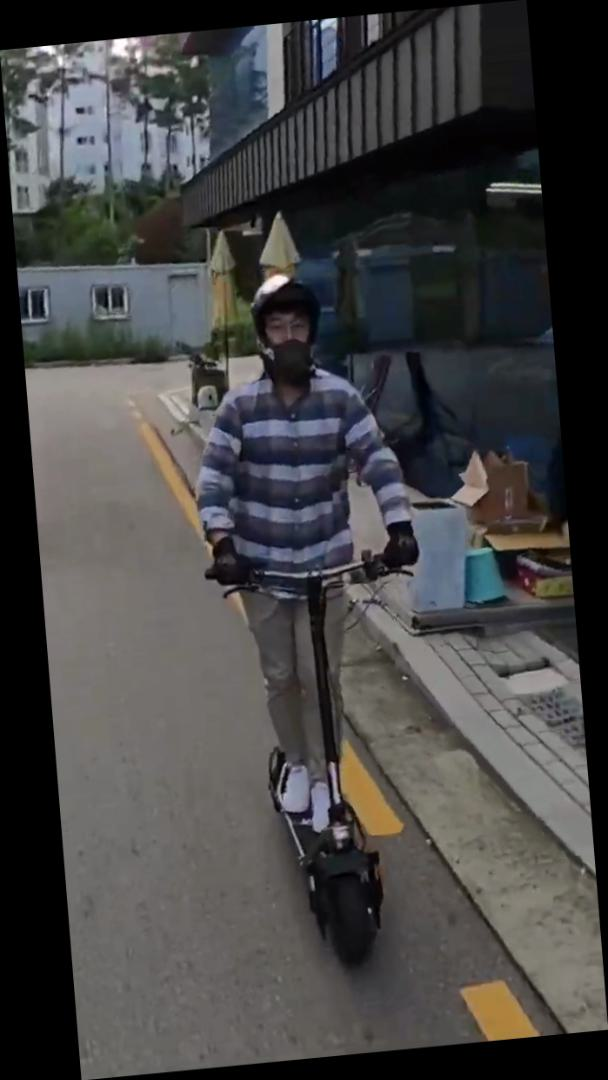helmet: (176, 261, 455, 982)
